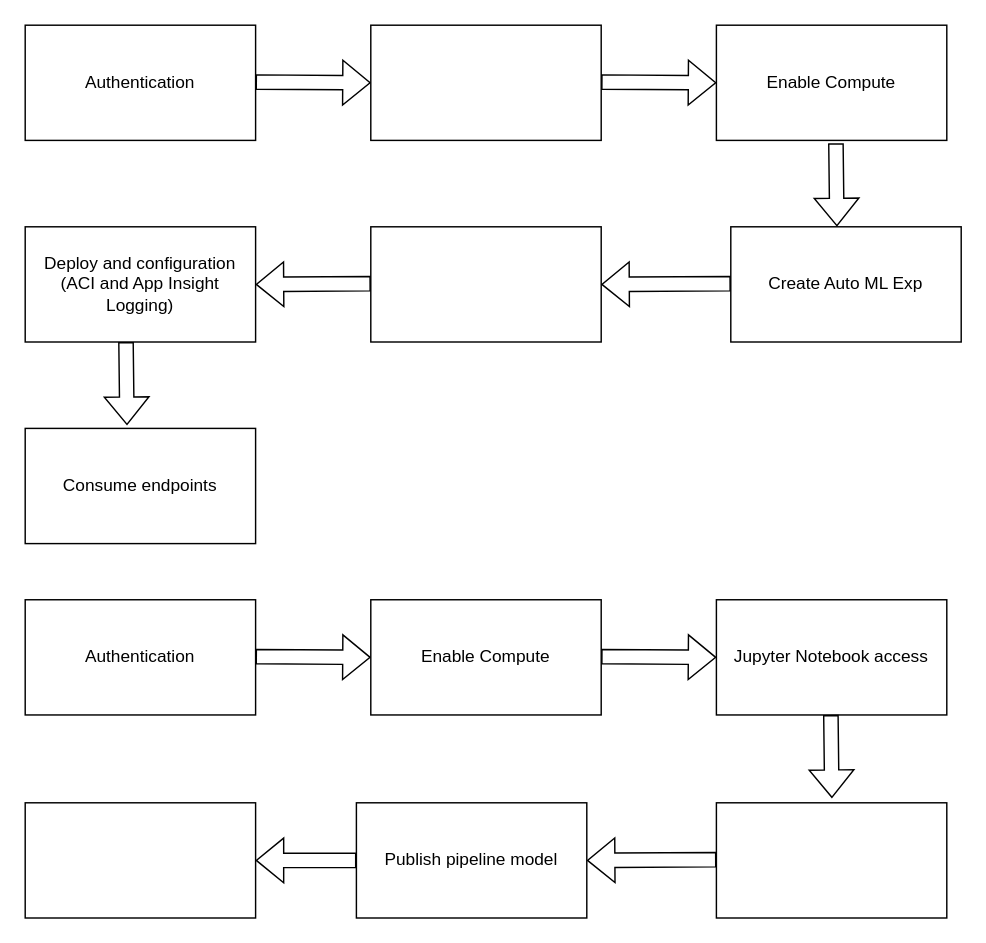
Image size: 986x943. Some labels were removed from this diagram. Each missing label, with the centre of its shape:
"Choose best model" belongs at [485,283].
"Configure workspace ,data and Auto ml sdk" belongs at [831,859].
"Consume pipeline endpoint" belongs at [140,859].
"Register Dataset" belongs at [485,82].
